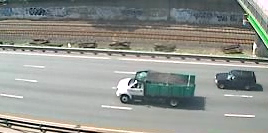car: (113, 69, 201, 109), (212, 68, 261, 91)
